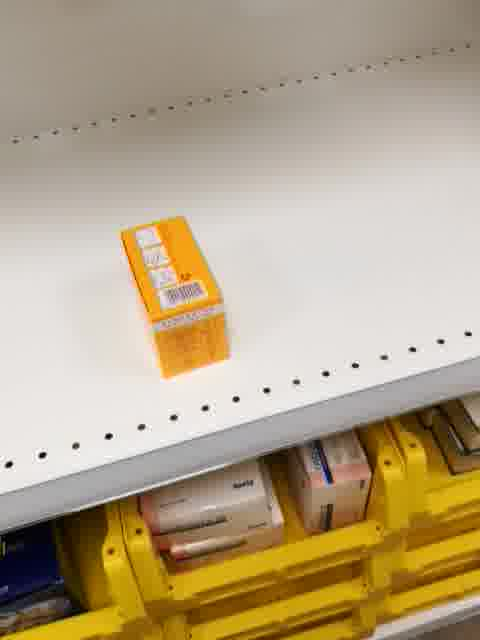jasminetea: (119, 213, 236, 381)
